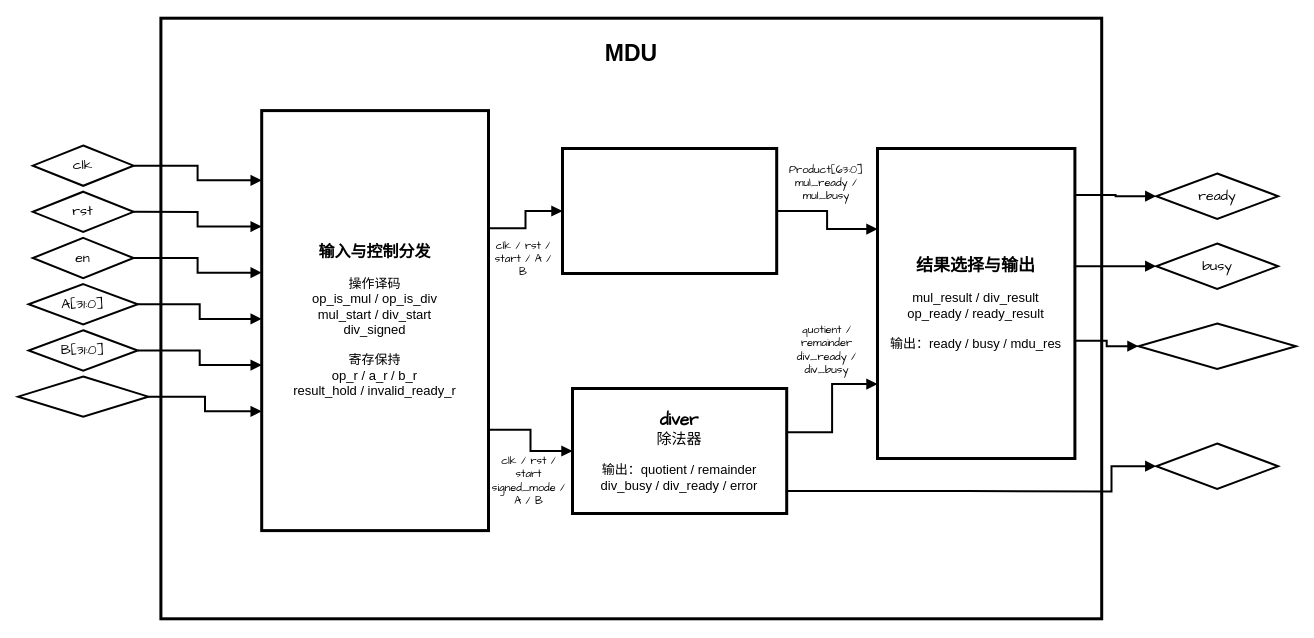
Some shapes in this 1314 by 638 pixel diagram are drawn without their labels. Each missing label, with the box of its shape:
booth_wallace 乘法器 输出： Product[63:0] mul_busy / mul_ready: (560, 146, 778, 274)
error: (1155, 442, 1279, 489)
mdu_op[2:0]: (17, 375, 149, 417)
mdu_res[31:0]: (1137, 322, 1296, 369)
